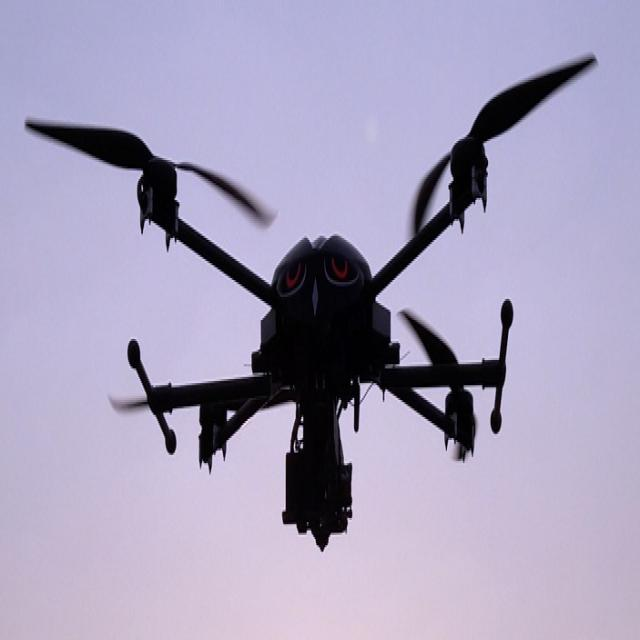drone: (13, 37, 601, 577)
